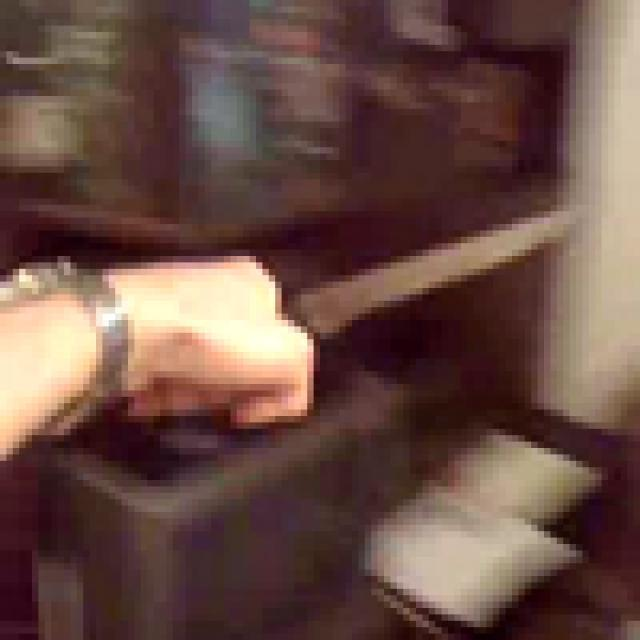knife: (198, 192, 608, 390)
